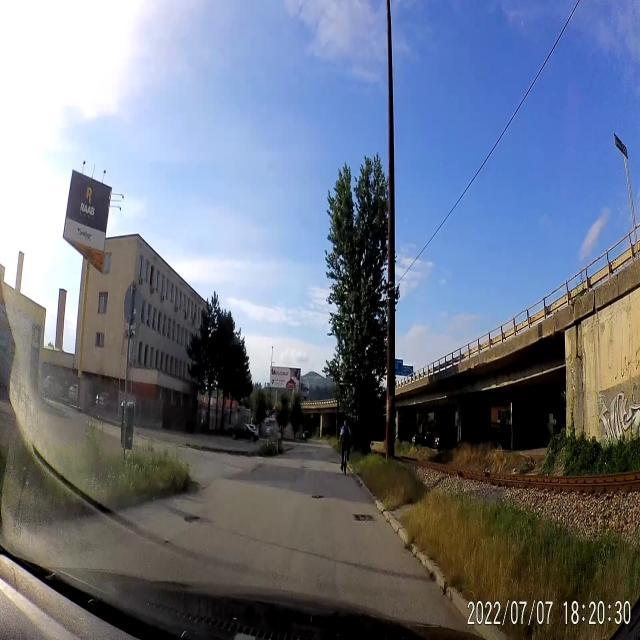Manhole: (352, 511, 374, 528)
Pothole: (178, 508, 208, 528), (310, 489, 326, 506)
